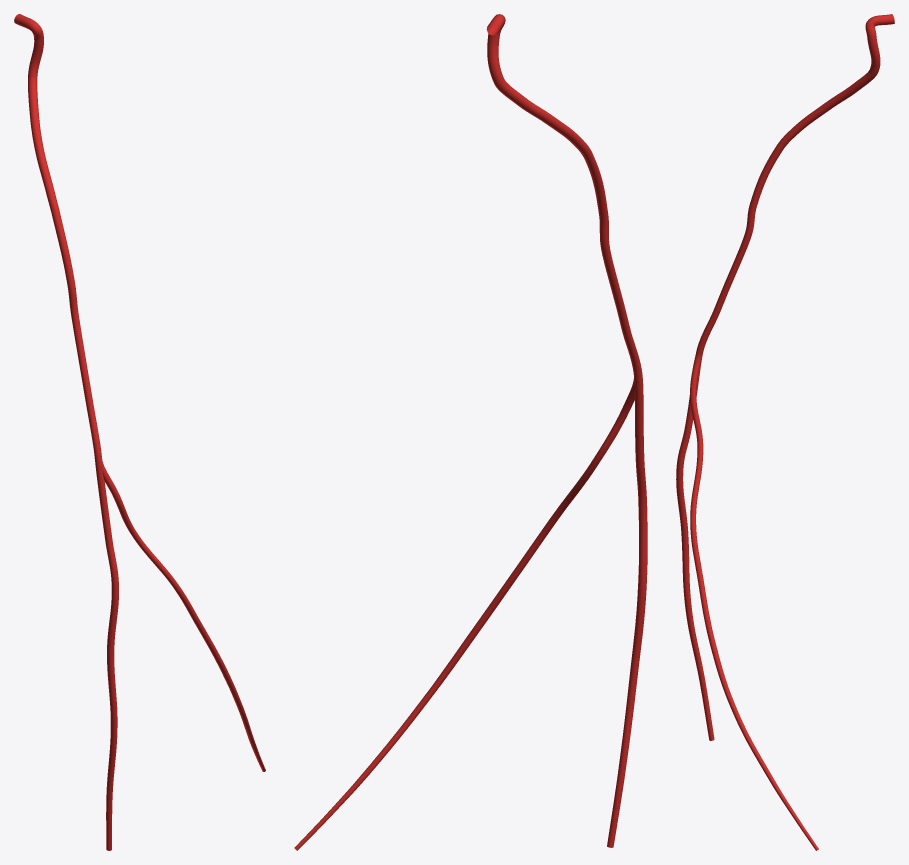
The model's file is circulatorio-internal-thoracic-veins-l.glb.
3 views of the same model, side by side, from view 1: azimuth 30°, elevation 25°; view 2: azimuth 150°, elevation 25°; view 3: azimuth 270°, elevation 25° (orthographic). The views are drawn at different scales.
Parts seen in each view (by area): view 1: Internal thoracic veins.l, Superior epigastric veins.l, Musculophrenic veins.l; view 2: Internal thoracic veins.l, Musculophrenic veins.l, Superior epigastric veins.l; view 3: Internal thoracic veins.l, Musculophrenic veins.l, Superior epigastric veins.l.
Part boxes in pixels (x1,y1,x2,y2): Internal thoracic veins.l: [14, 14, 101, 460]; Superior epigastric veins.l: [95, 460, 118, 850]; Musculophrenic veins.l: [96, 459, 265, 771]; Internal thoracic veins.l: [486, 14, 642, 376]; Musculophrenic veins.l: [294, 376, 636, 850]; Superior epigastric veins.l: [607, 375, 647, 847]; Internal thoracic veins.l: [696, 14, 894, 354]; Musculophrenic veins.l: [690, 352, 818, 850]; Superior epigastric veins.l: [676, 354, 714, 740].
Bounding box in the file's own units: 0.0956 × 0.3053 × 0.0817.
